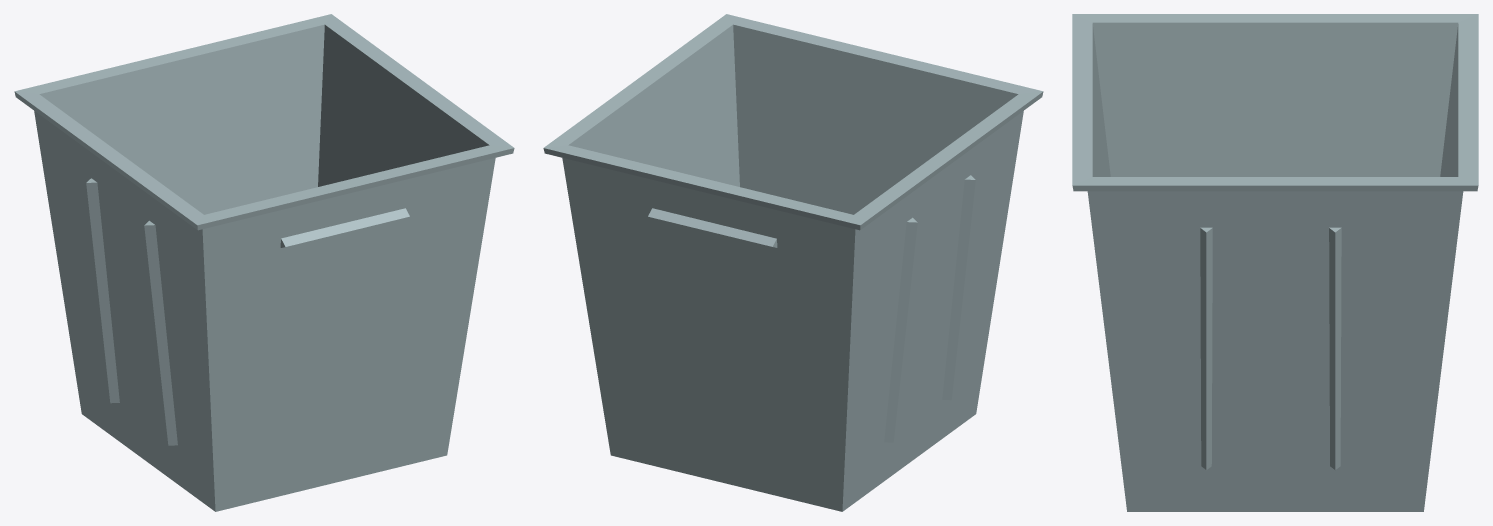
Rendered from SM_Trash_02.fbx.
3 renders of one model, left to right at view 1: azimuth 30°, elevation 25°; view 2: azimuth 150°, elevation 25°; view 3: azimuth 270°, elevation 25°, orthographic. The views are drawn at different scales.
Visible parts, largest first — view 1: SM_Trash_02; view 2: SM_Trash_02; view 3: SM_Trash_02.
Boxes of the visible parts, x1,y1,x2,y2 form: SM_Trash_02: (14,14,514,511); SM_Trash_02: (543,14,1043,511); SM_Trash_02: (1072,14,1478,511).
Size of the model in its own units: 163 by 155 by 163.
